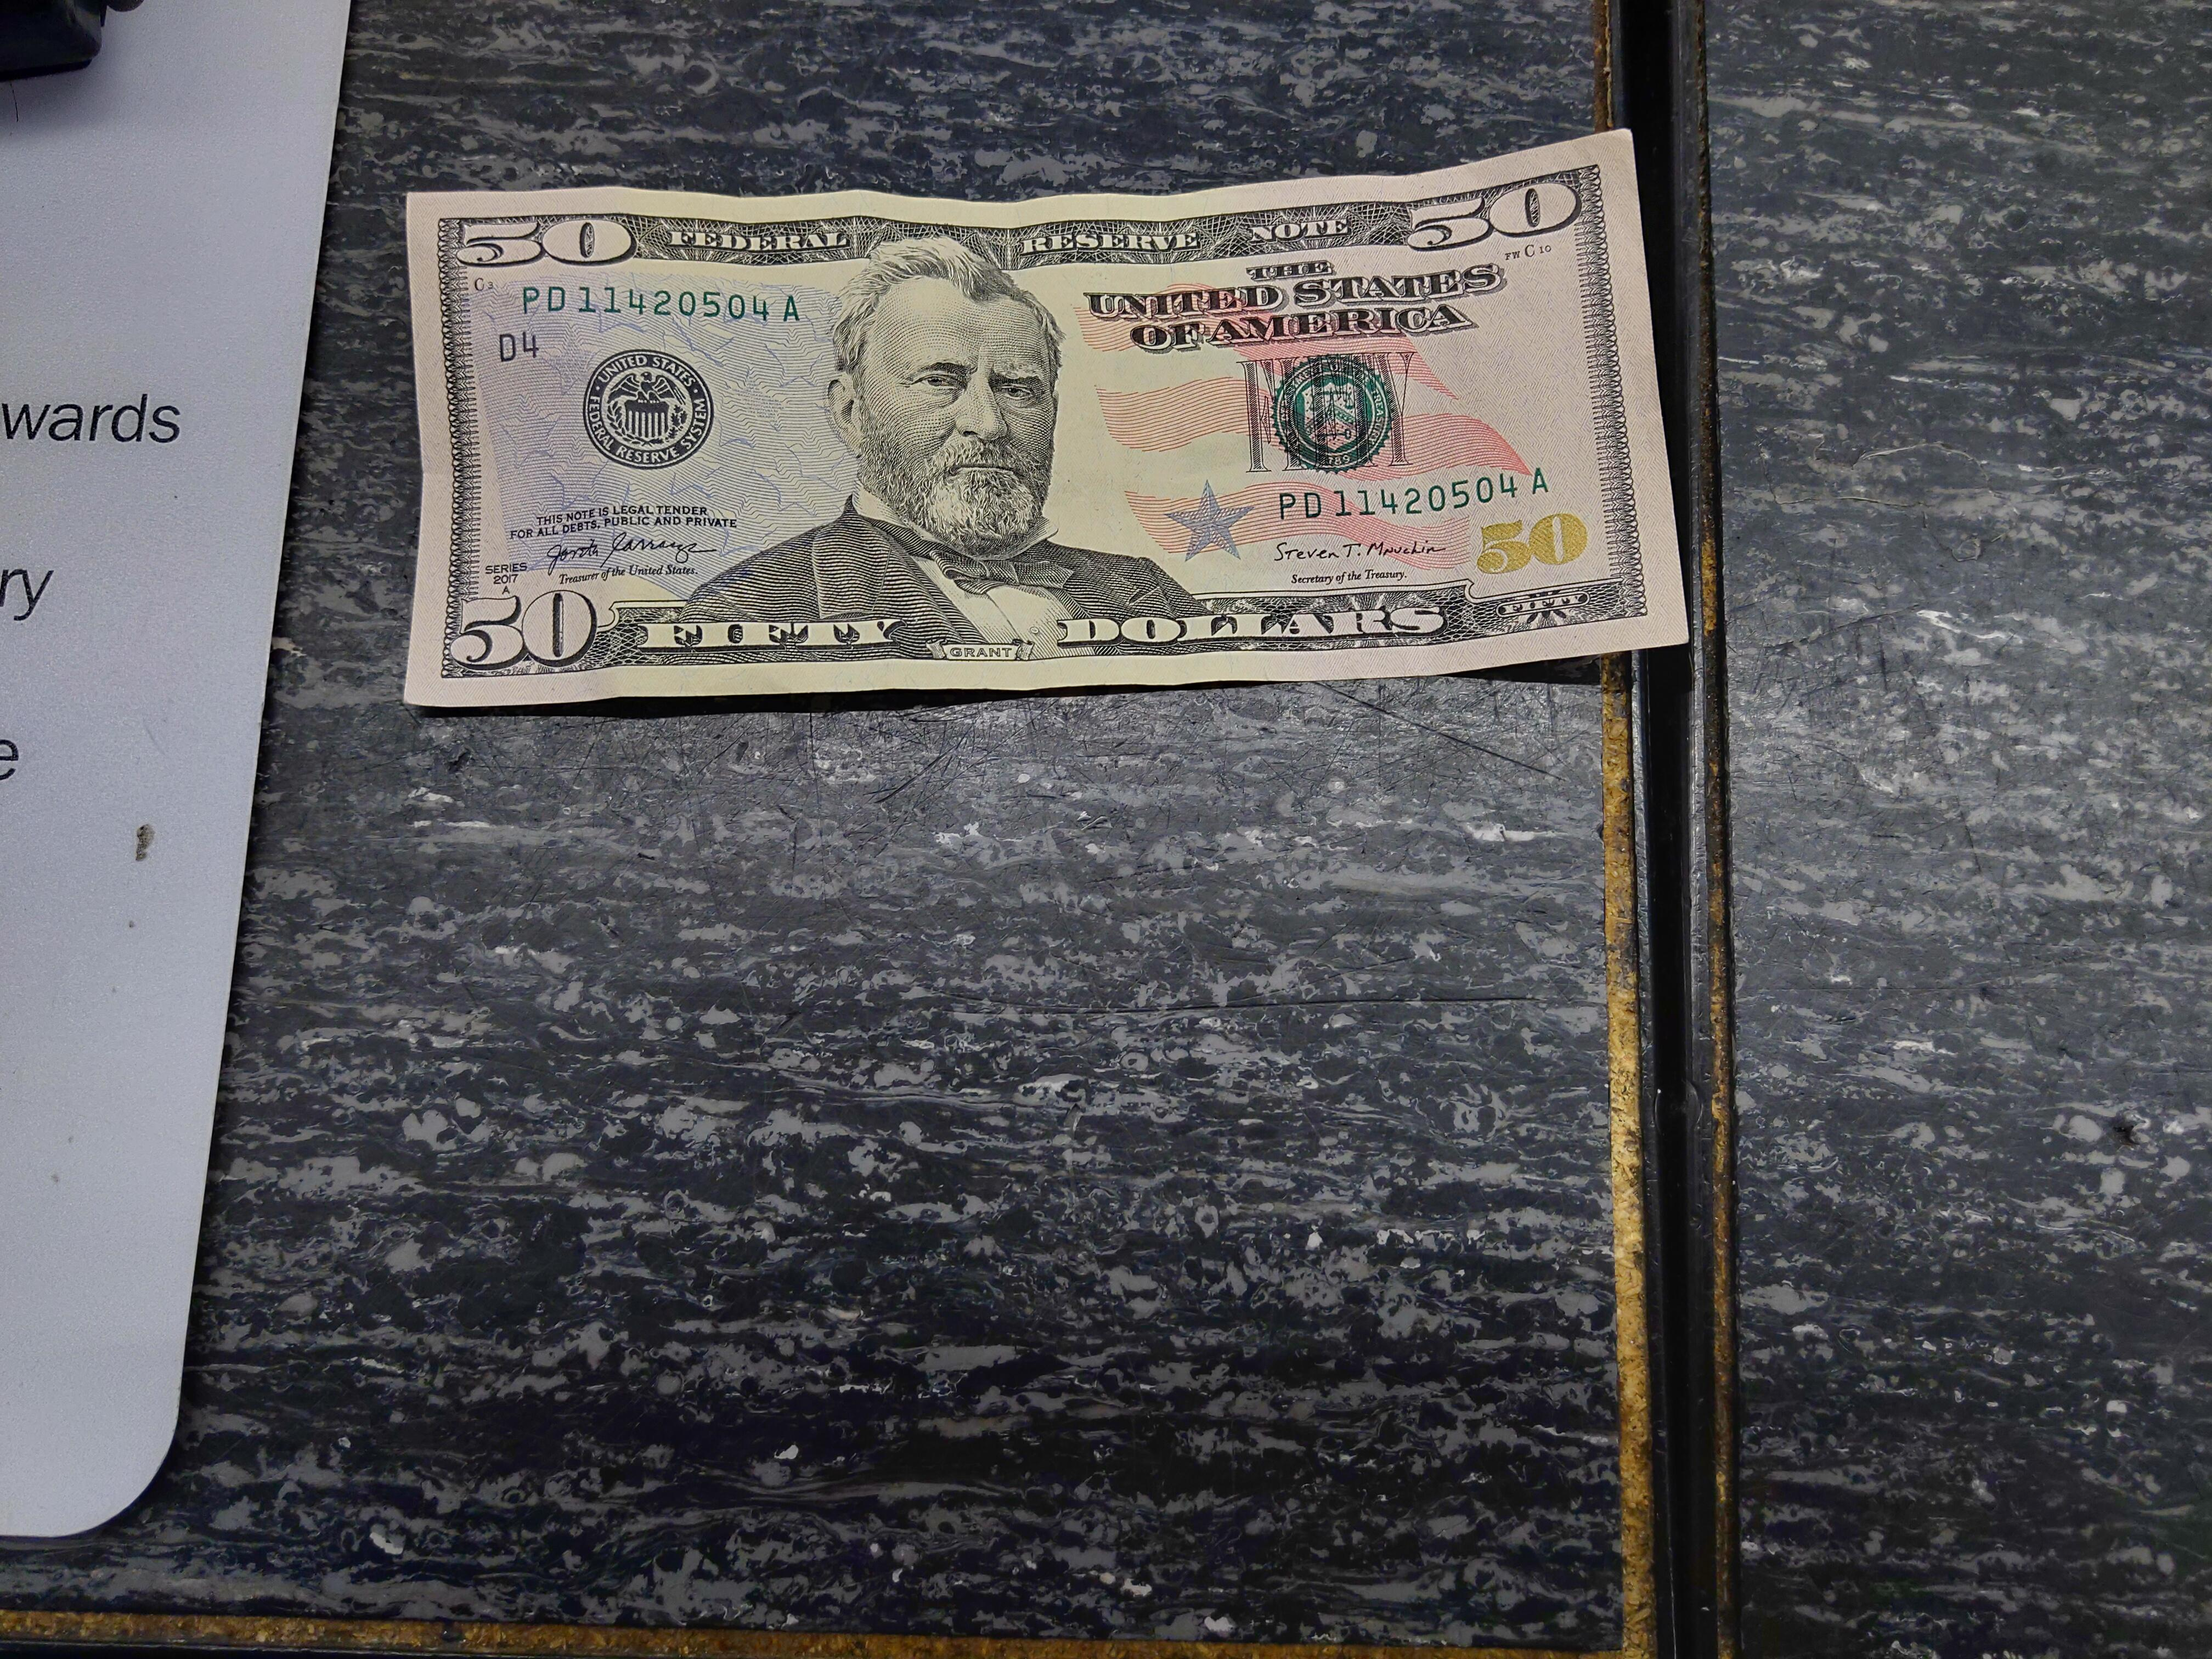FiftyBill: (390, 124, 1698, 709)
